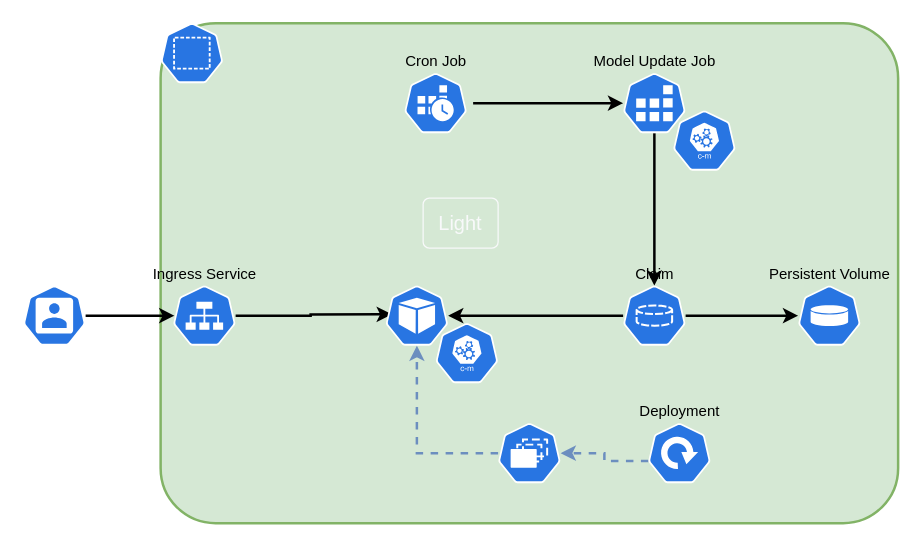
Some shapes in this 920 by 545 pixel diagram are drawn without their labels. Here are the shapes that lost their labels. From the top down, the centre of each, then its label:
(191,52): Eiros Namespace
(53,315): User
(416,315): Ux Pod
(529,452): Replica Set
